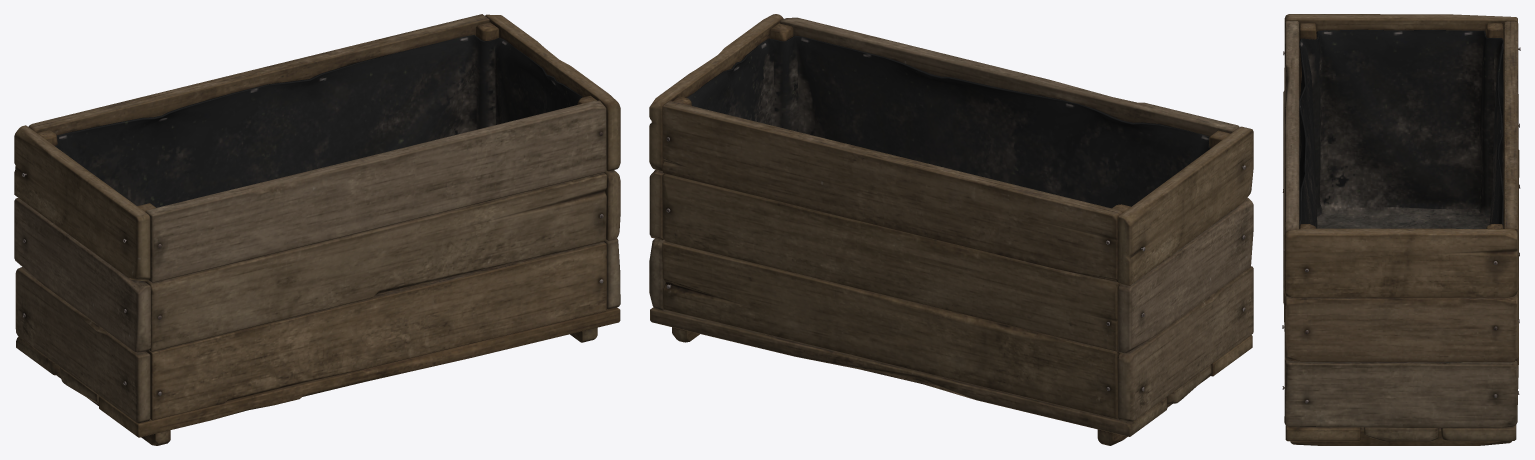
File: planter_box_01.glb
The picture shows the model from 3 angles, left to right: view 1: azimuth 30°, elevation 25°; view 2: azimuth 150°, elevation 25°; view 3: azimuth 270°, elevation 25°; orthographic projection. The views are drawn at different scales.
Visible parts, largest first — view 1: planter_box_01_m0; view 2: planter_box_01_m0; view 3: planter_box_01_m0.
Part boxes in pixels (x1,y1,x2,y2): planter_box_01_m0: [14, 14, 620, 445]; planter_box_01_m0: [649, 14, 1253, 445]; planter_box_01_m0: [1282, 14, 1520, 445].
Size of the model in its own units: 0.8076 by 0.3761 by 0.3661.
1 material, 1 textured.
